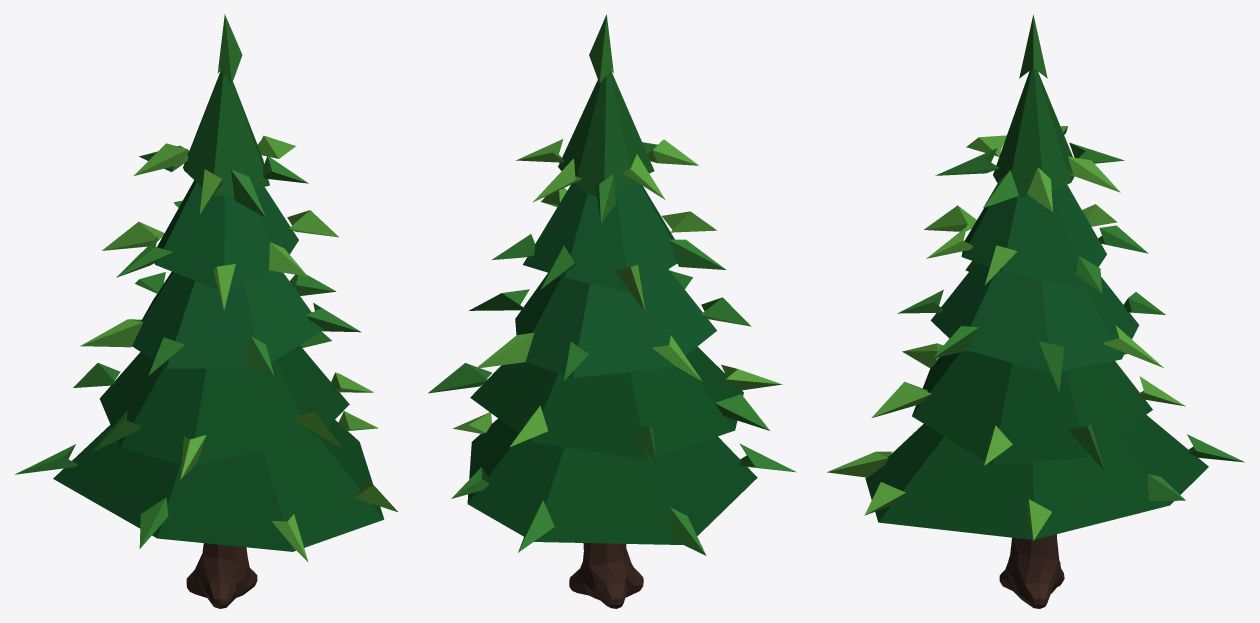
The model's file is pine_b.gltf.
3 views of the same model, side by side, from view 1: azimuth 30°, elevation 25°; view 2: azimuth 150°, elevation 25°; view 3: azimuth 270°, elevation 25° (orthographic).
Visible parts, largest first — view 1: pine_b; view 2: pine_b; view 3: pine_b.
Part boxes in pixels (bbox=[...]): pine_b: bbox=[15, 14, 397, 608]; pine_b: bbox=[428, 14, 796, 608]; pine_b: bbox=[827, 14, 1244, 608].
Size of the model in its own units: 1.75 by 3.15 by 2.05.
